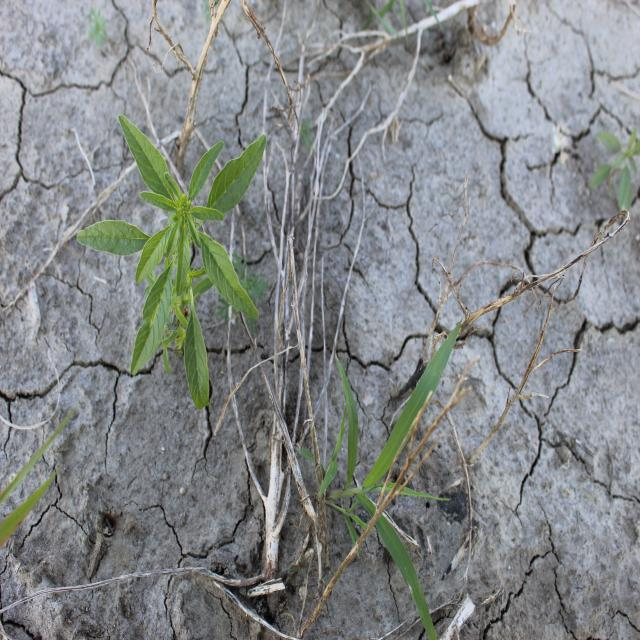Waterhemp: (75, 113, 267, 412)
